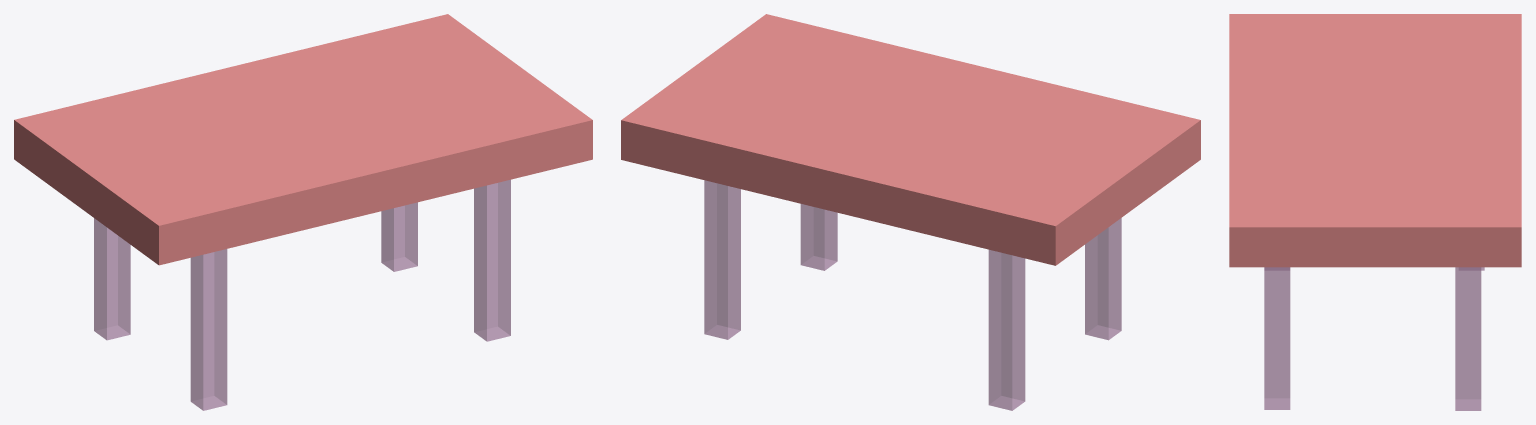
Rendered from Glass Table.FBX.
The picture shows the model from 3 angles, left to right: view 1: azimuth 30°, elevation 25°; view 2: azimuth 150°, elevation 25°; view 3: azimuth 270°, elevation 25°; orthographic projection.
Visible parts, largest first — view 1: Box005, Box002, Box003, Box001, Box004; view 2: Box005, Box001, Box004, Box002, Box003; view 3: Box005, Box004, Box003.
Boxes of the visible parts, bbox=[...] form: Box005: bbox=[14, 14, 592, 265]; Box002: bbox=[190, 249, 227, 410]; Box003: bbox=[474, 179, 510, 341]; Box001: bbox=[94, 218, 130, 340]; Box004: bbox=[381, 202, 417, 271]; Box005: bbox=[621, 14, 1200, 265]; Box001: bbox=[988, 249, 1025, 410]; Box004: bbox=[704, 180, 740, 339]; Box002: bbox=[1085, 218, 1121, 340]; Box003: bbox=[800, 204, 837, 270]; Box005: bbox=[1229, 14, 1521, 267]; Box004: bbox=[1455, 267, 1481, 410]; Box003: bbox=[1264, 267, 1290, 409].
Size of the model in its own units: 153 by 71.95 by 88.77.
